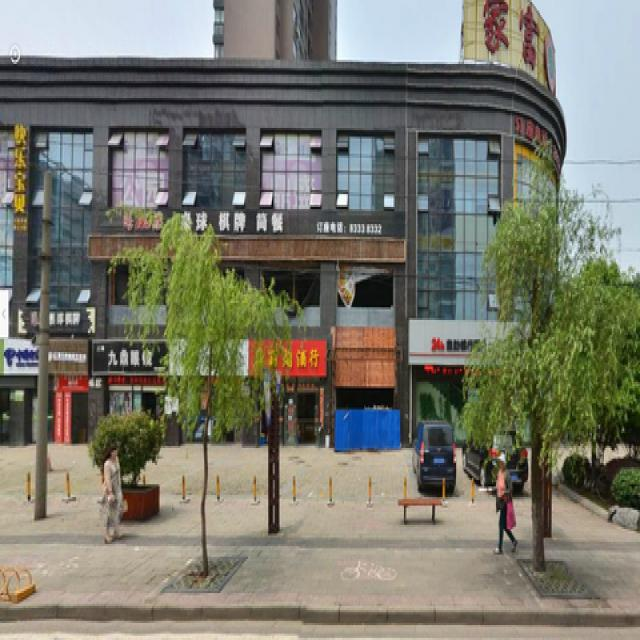plat: (124, 203, 292, 580), (464, 190, 625, 567)
